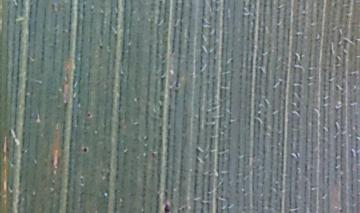tarspot: (162, 201, 172, 213), (81, 146, 89, 154), (86, 112, 92, 119), (99, 44, 103, 50)
